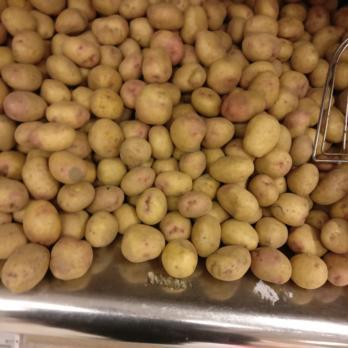Floury potato: (1, 1, 348, 254), (158, 252, 348, 287), (0, 253, 97, 290)
